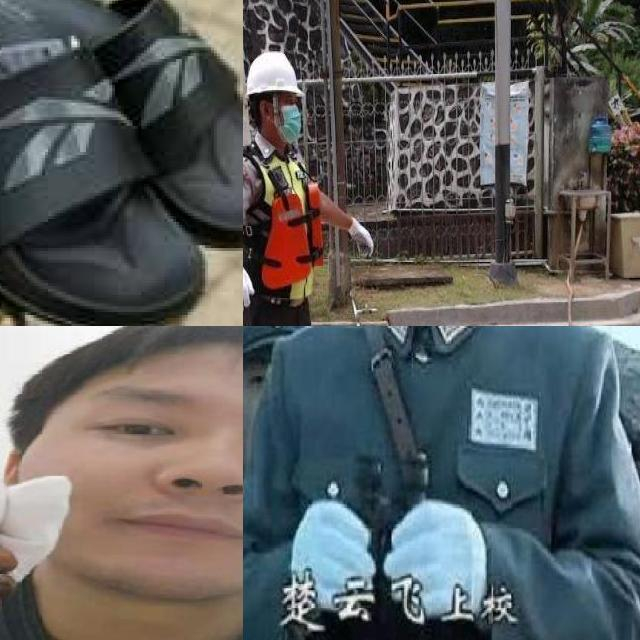No_Glasses: (83, 389, 243, 491)
Sandals: (0, 0, 243, 326)
face_nomask: (61, 372, 243, 588)
hand_glove: (0, 463, 78, 640), (384, 499, 482, 624), (288, 496, 378, 618)
head_helmet: (246, 46, 312, 103)
head_nohelmet: (64, 326, 243, 411)
person: (257, 326, 640, 640), (0, 326, 243, 640), (243, 15, 401, 326)
vest: (243, 137, 329, 295)
